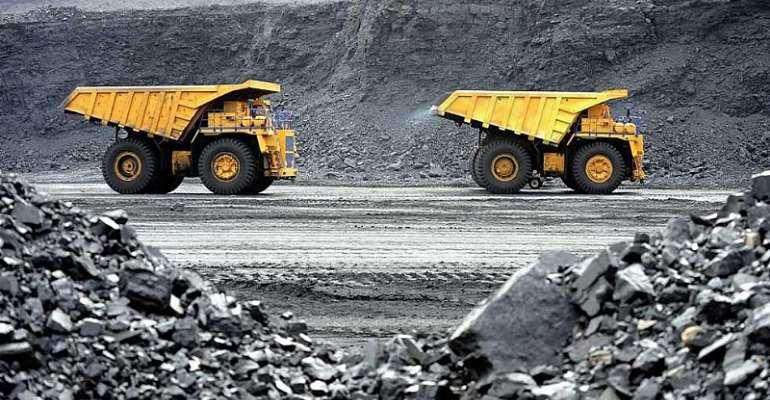ExcavationMachinery: (57, 79, 301, 194), (434, 86, 646, 193)
